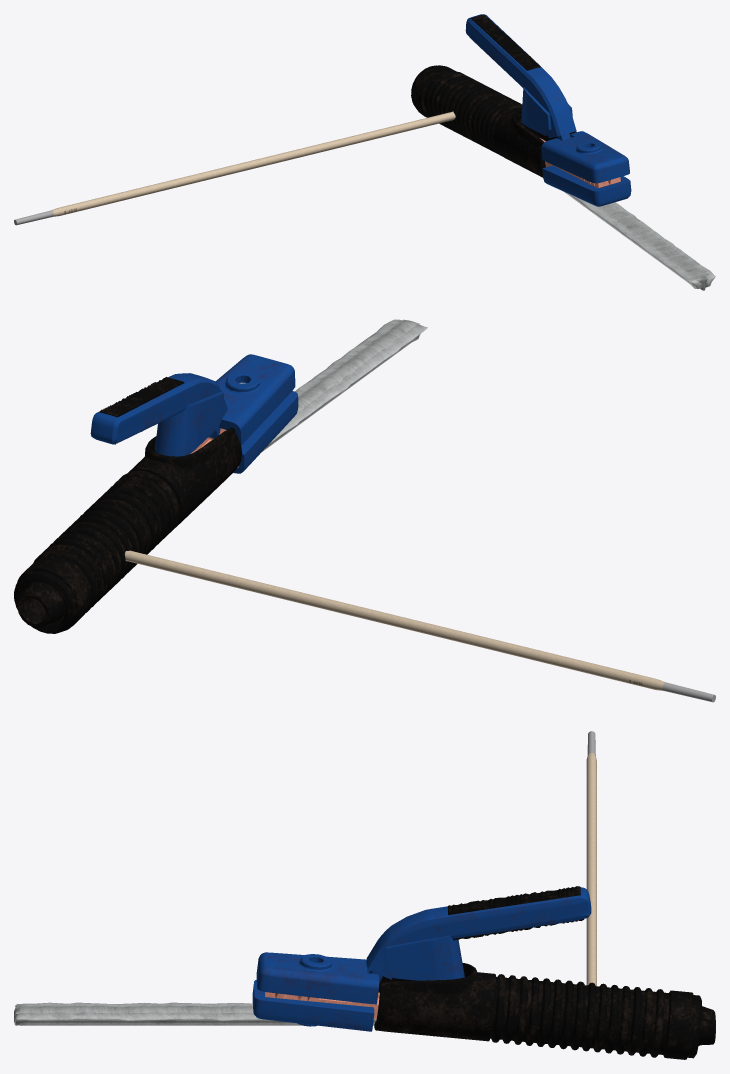
File: TOOLS.fbx
3 views of the same model, one above another, from view 1: azimuth 30°, elevation 25°; view 2: azimuth 150°, elevation 25°; view 3: azimuth 270°, elevation 25° (orthographic). The views are drawn at different scales.
Visible parts, largest first — view 1: SMAWsmaw_wires_group259smaw_wires_gun_grpsmaw_wires_geo_25b6, electrode, polySurface1, polySurface3; view 2: SMAWsmaw_wires_group259smaw_wires_gun_grpsmaw_wires_geo_25b6, electrode, polySurface1, polySurface3; view 3: SMAWsmaw_wires_group259smaw_wires_gun_grpsmaw_wires_geo_25b6, polySurface1, electrode, polySurface3.
Boxes of the visible parts, x1,y1,x2,y2 form: SMAWsmaw_wires_group259smaw_wires_gun_grpsmaw_wires_geo_25b6: [411, 14, 631, 206]; electrode: [14, 111, 455, 225]; polySurface1: [563, 191, 715, 288]; polySurface3: [596, 203, 709, 290]; SMAWsmaw_wires_group259smaw_wires_gun_grpsmaw_wires_geo_25b6: [14, 354, 298, 633]; electrode: [125, 550, 715, 702]; polySurface1: [231, 319, 427, 474]; polySurface3: [297, 319, 419, 411]; SMAWsmaw_wires_group259smaw_wires_gun_grpsmaw_wires_geo_25b6: [252, 886, 715, 1059]; polySurface1: [14, 1002, 376, 1025]; electrode: [586, 731, 596, 986]; polySurface3: [14, 1005, 374, 1025].
Bounding box in the file's own units: 0.3183 × 0.0832 × 0.3195.
